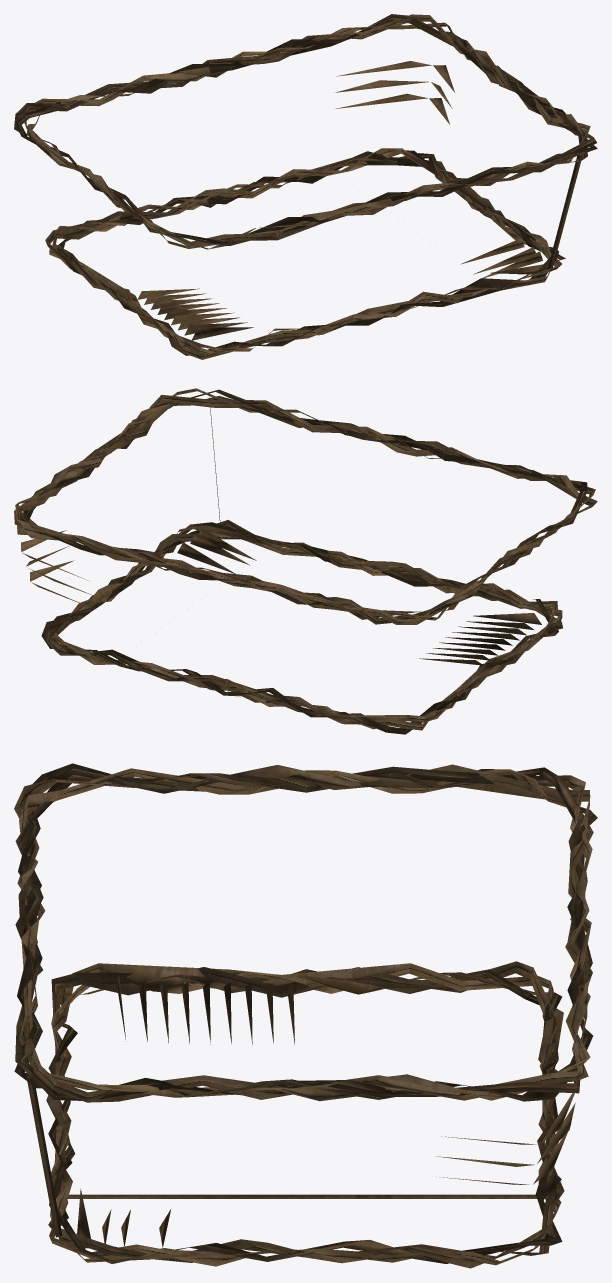
The model's file is wicker_basket_01.glb.
3 renders of one model, top to bottom at view 1: azimuth 30°, elevation 25°; view 2: azimuth 150°, elevation 25°; view 3: azimuth 270°, elevation 25°, orthographic. The views are drawn at different scales.
Visible parts, largest first — view 1: wicker_basket_01; view 2: wicker_basket_01; view 3: wicker_basket_01.
Boxes of the visible parts, x1=… form: wicker_basket_01: x1=14, y1=14, x2=597, y2=359; wicker_basket_01: x1=14, y1=388, x2=597, y2=734; wicker_basket_01: x1=14, y1=763, x2=597, y2=1268.
Size of the model in its own units: 0.383 by 0.1172 by 0.2928.
Materials: 1 (1 with a texture image).
